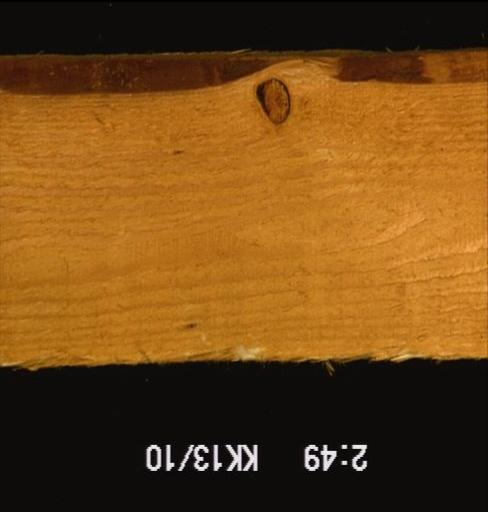dry_knot: (253, 76, 291, 125)
wave: (2, 49, 280, 110), (303, 51, 485, 90)
